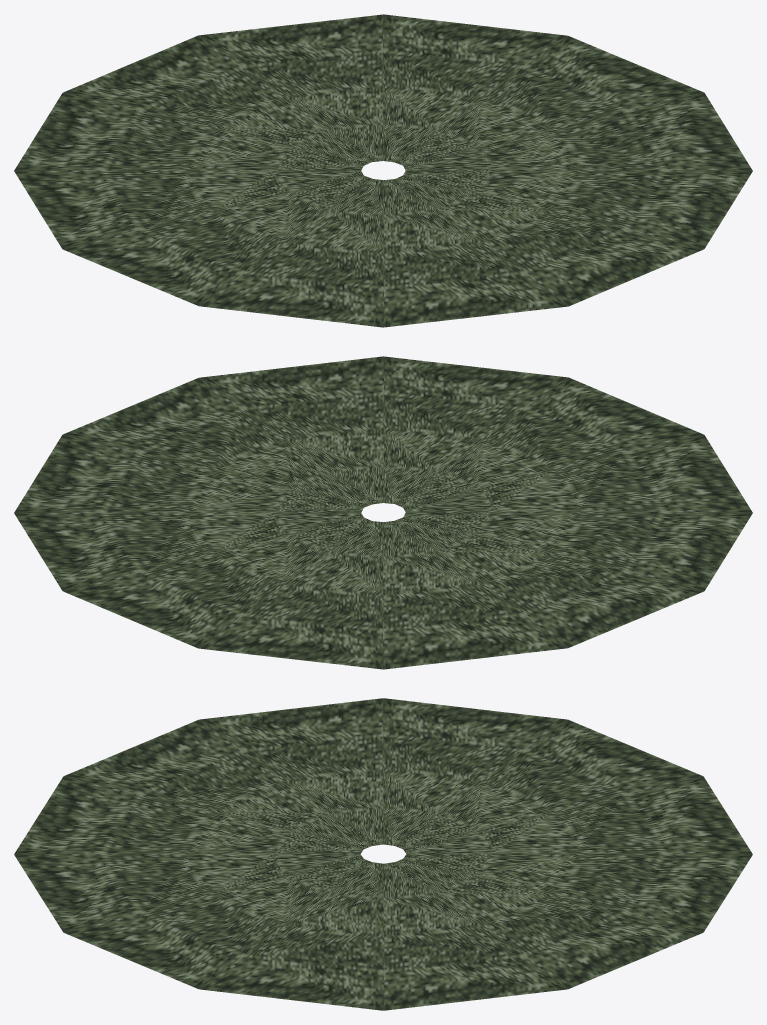
The picture shows the model from 3 angles, top to bottom: view 1: azimuth 30°, elevation 25°; view 2: azimuth 150°, elevation 25°; view 3: azimuth 270°, elevation 25°; orthographic projection.
Parts seen in each view (by area): view 1: mesh00; view 2: mesh00; view 3: mesh00.
Part boxes in pixels (left/top/right/bottom): mesh00: left=14, top=14, right=752, bottom=327; mesh00: left=14, top=356, right=752, bottom=669; mesh00: left=14, top=698, right=752, bottom=1010.
Size of the model in its own units: 980 by 1.76 by 979.
